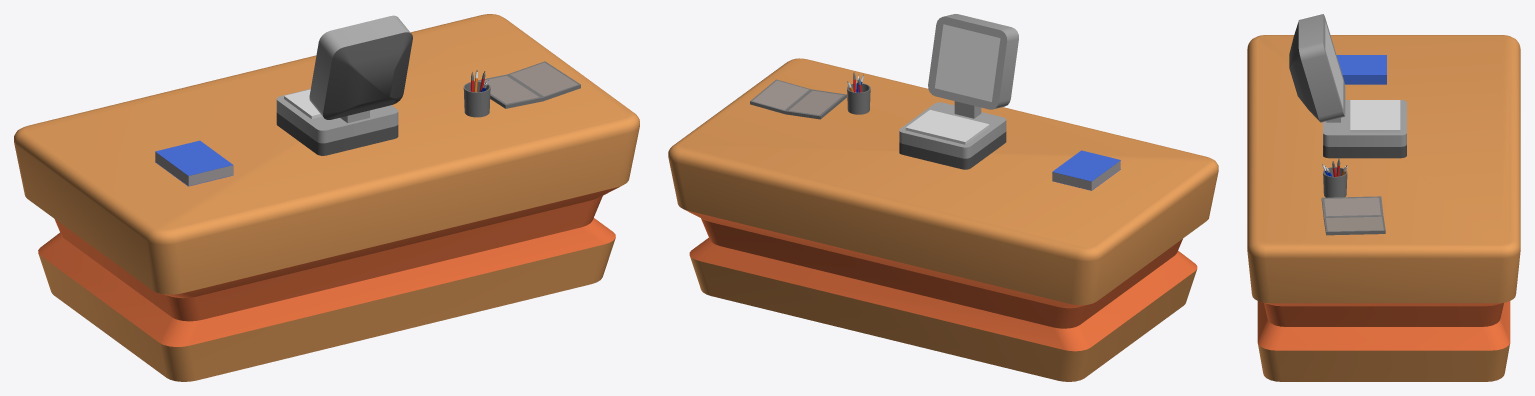
The model's file is kasaMasa.fbx.
3 views of the same model, side by side, from view 1: azimuth 30°, elevation 25°; view 2: azimuth 150°, elevation 25°; view 3: azimuth 270°, elevation 25° (orthographic). The views are drawn at different scales.
Visible parts, largest first — view 1: masa.002, kasa, defter, kitap2, kalemlik; view 2: masa.002, kasa, defter, kitap2, kalemlik; view 3: masa.002, kasa, defter, kitap2, kalemlik.
Boxes of the visible parts, x1=… form: masa.002: x1=14, y1=14, x2=639, y2=381; kasa: x1=276, y1=15, x2=412, y2=155; defter: x1=470, y1=61, x2=580, y2=108; kitap2: x1=155, y1=140, x2=233, y2=186; kalemlik: x1=463, y1=70, x2=490, y2=117; masa.002: x1=668, y1=58, x2=1218, y2=381; kasa: x1=899, y1=14, x2=1018, y2=169; defter: x1=750, y1=79, x2=846, y2=119; kitap2: x1=1052, y1=150, x2=1120, y2=190; kalemlik: x1=847, y1=72, x2=870, y2=114; masa.002: x1=1247, y1=35, x2=1520, y2=381; kasa: x1=1289, y1=14, x2=1406, y2=158; defter: x1=1321, y1=196, x2=1385, y2=235; kitap2: x1=1336, y1=55, x2=1386, y2=84; kalemlik: x1=1322, y1=158, x2=1347, y2=197.
Size of the model in its own units: 373 by 207 by 199.
